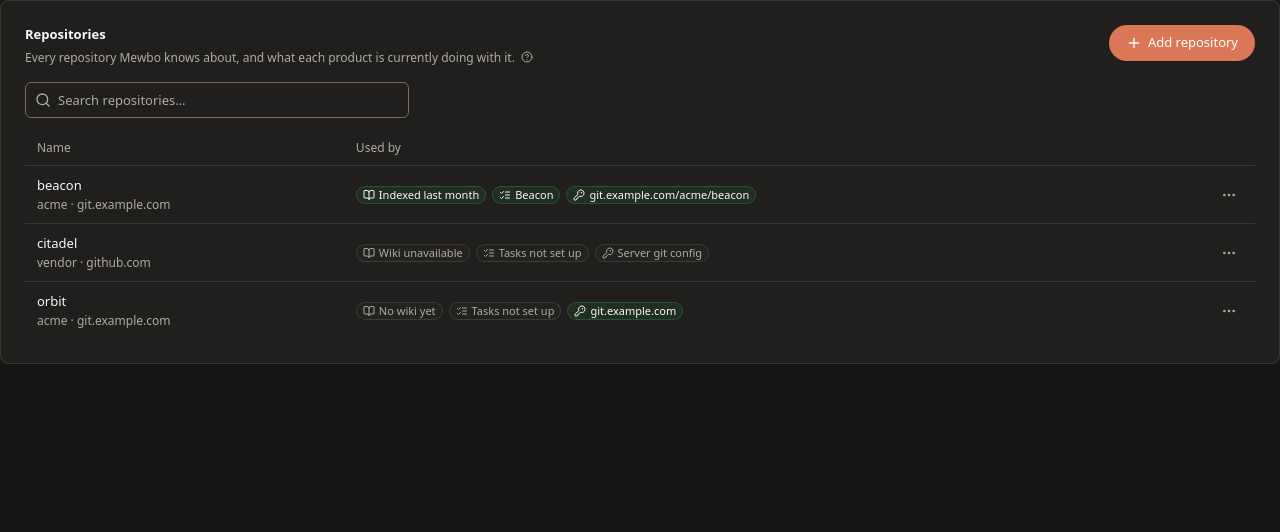
Test case: RepositoriesPane › the label says it sets something up, never that it merely uses it
Click the button named "Actions for orbit" at (1229, 311), box [1215, 297, 1243, 325]
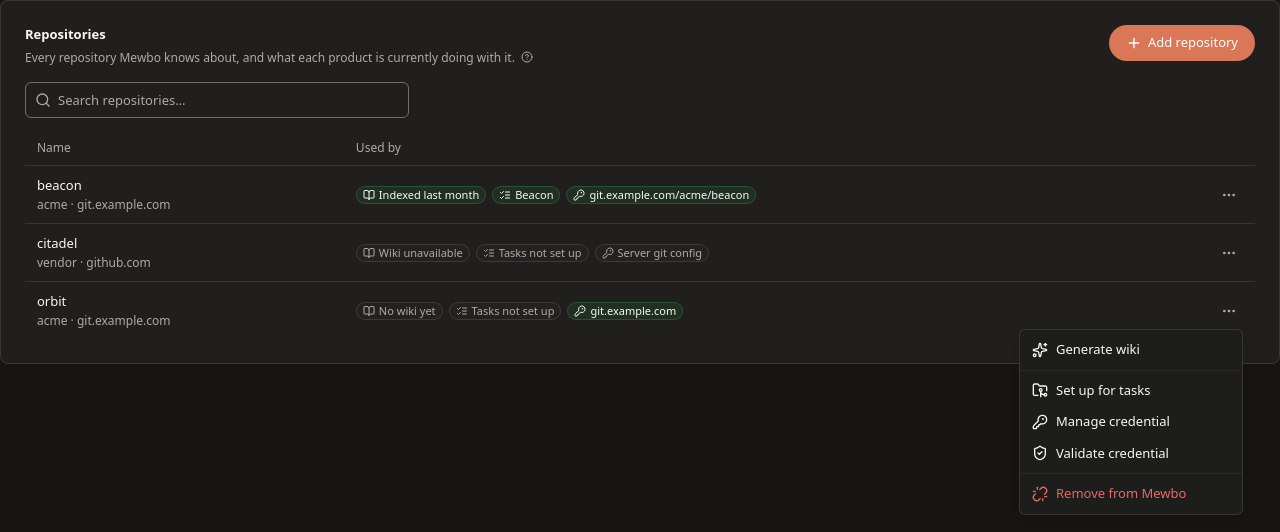
Now the menu item "Set up for tasks" is shown, box [1032, 380, 1150, 398]
